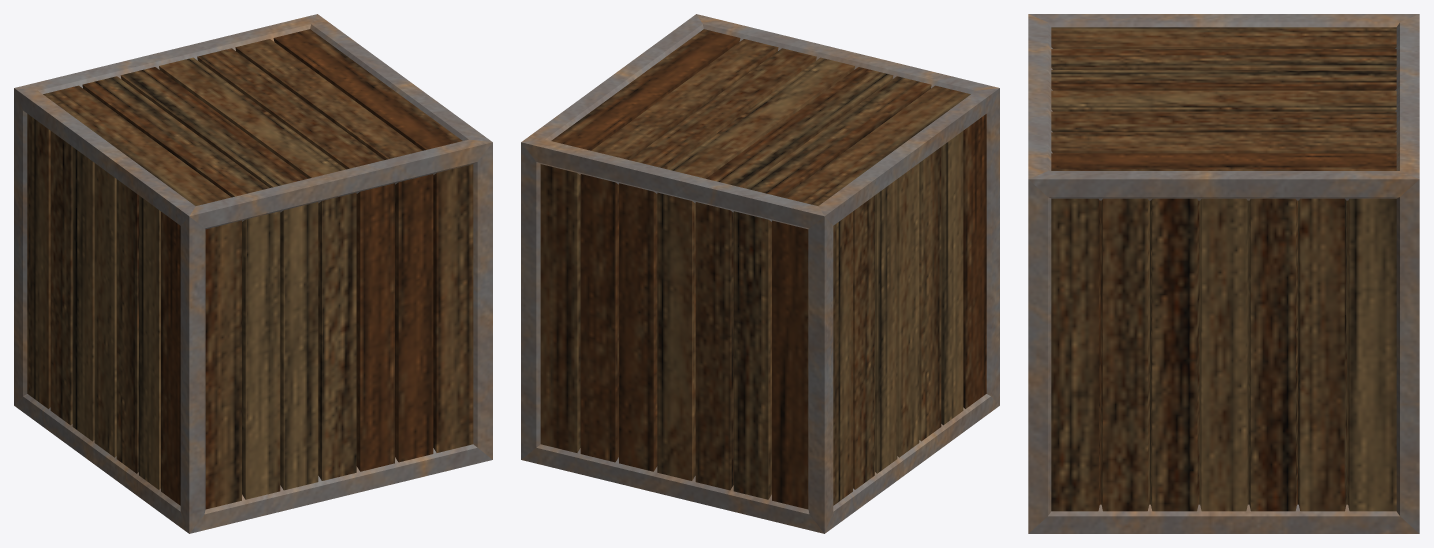
3 renders of one model, left to right at view 1: azimuth 30°, elevation 25°; view 2: azimuth 150°, elevation 25°; view 3: azimuth 270°, elevation 25°, orthographic. The views are drawn at different scales.
Parts seen in each view (by area): view 1: box; view 2: box; view 3: box.
Boxes of the visible parts, x1,y1,x2,y2 form: box: [14, 14, 492, 533]; box: [521, 14, 999, 533]; box: [1028, 14, 1419, 533].
Size of the model in its own units: 210 by 210 by 210.
2 materials, 2 textured.
